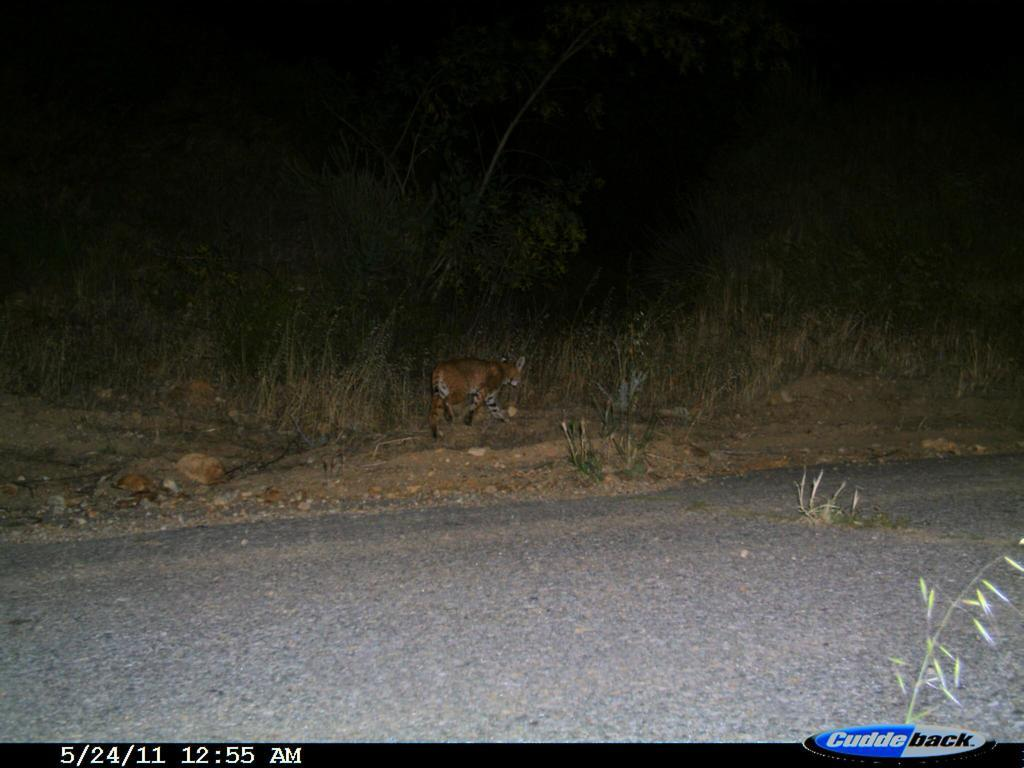bobcat: (417, 350, 537, 437)
